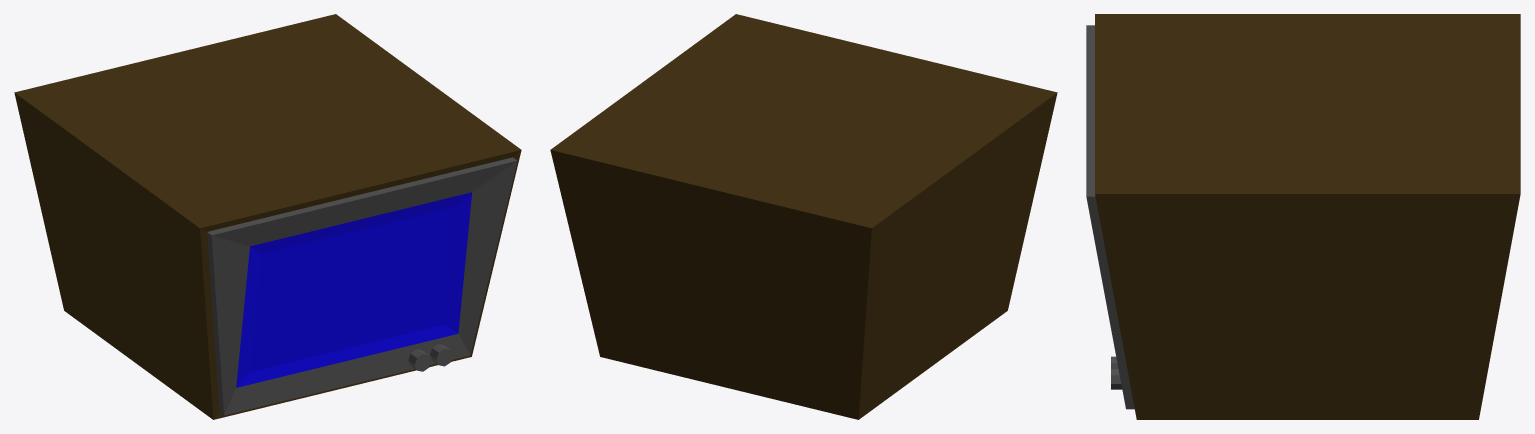
File: CRT.fbx
The picture shows the model from 3 angles, left to right: view 1: azimuth 30°, elevation 25°; view 2: azimuth 150°, elevation 25°; view 3: azimuth 270°, elevation 25°; orthographic projection. The views are drawn at different scales.
Visible parts, largest first — view 1: Plane; view 2: Plane; view 3: Plane.
Part boxes in pixels (x1=…): Plane: x1=14, y1=14, x2=521, y2=419; Plane: x1=550, y1=14, x2=1057, y2=419; Plane: x1=1086, y1=14, x2=1520, y2=419.
Size of the model in its own units: 157 by 249 by 254.
